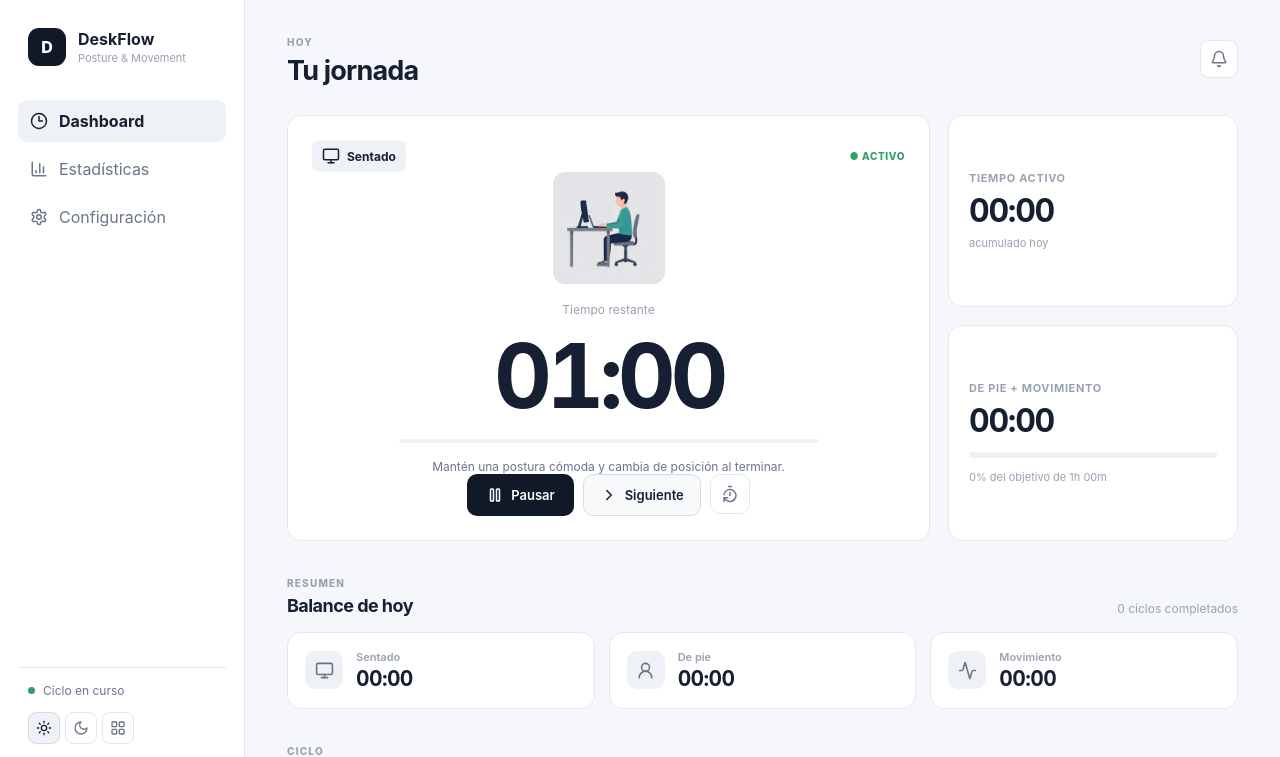
it: persistence › toggles settings and persists them
Press 3
(page scrolled)
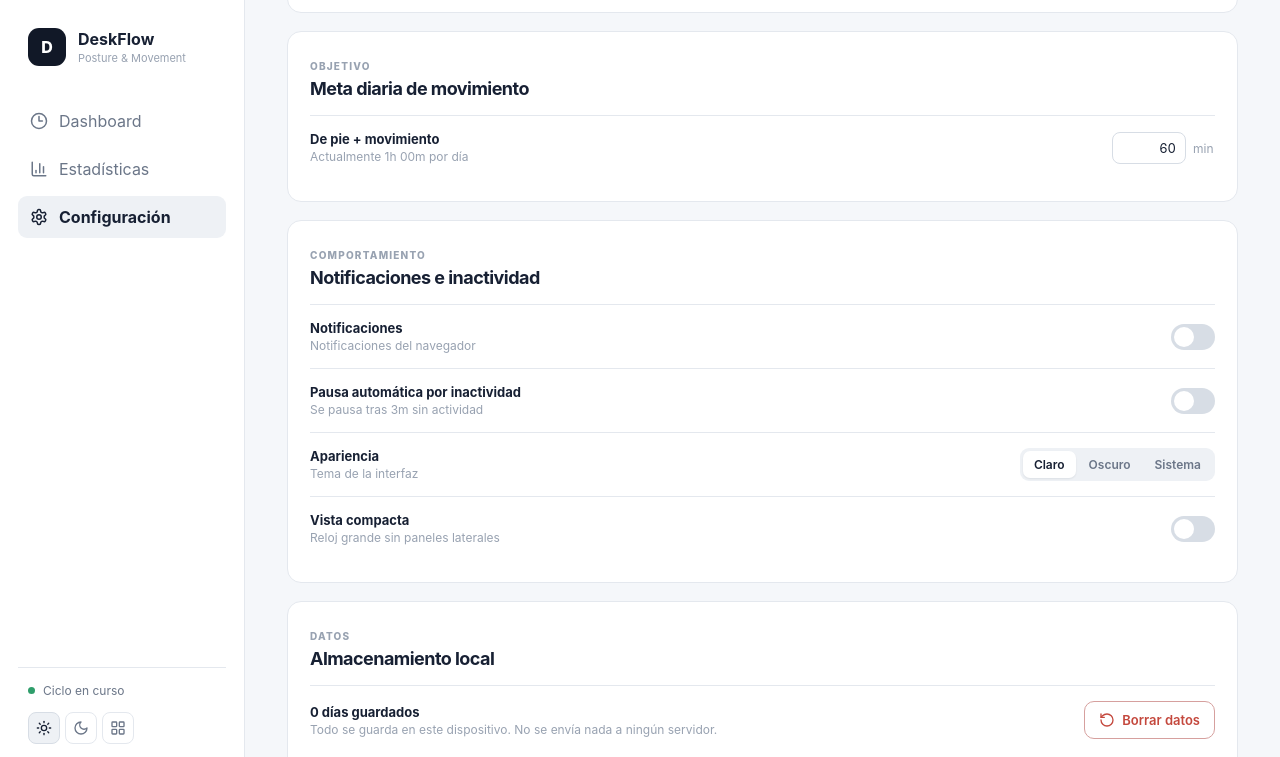
Click the switch named "Pausa automática por inactividad". click: click(1193, 400)
box: [1171,388,1215,414]
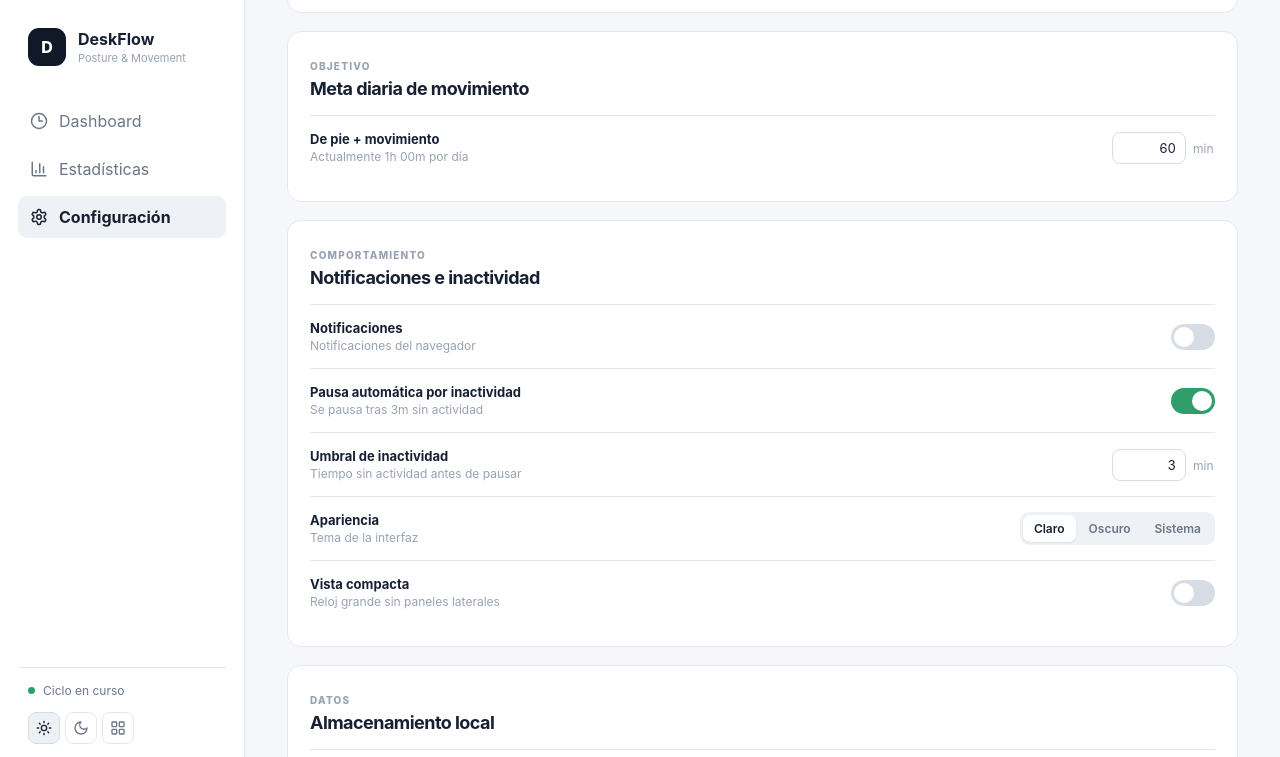
expect the field named "Umbral de inactividad" is shown: met, box [1112,448,1186,480]
